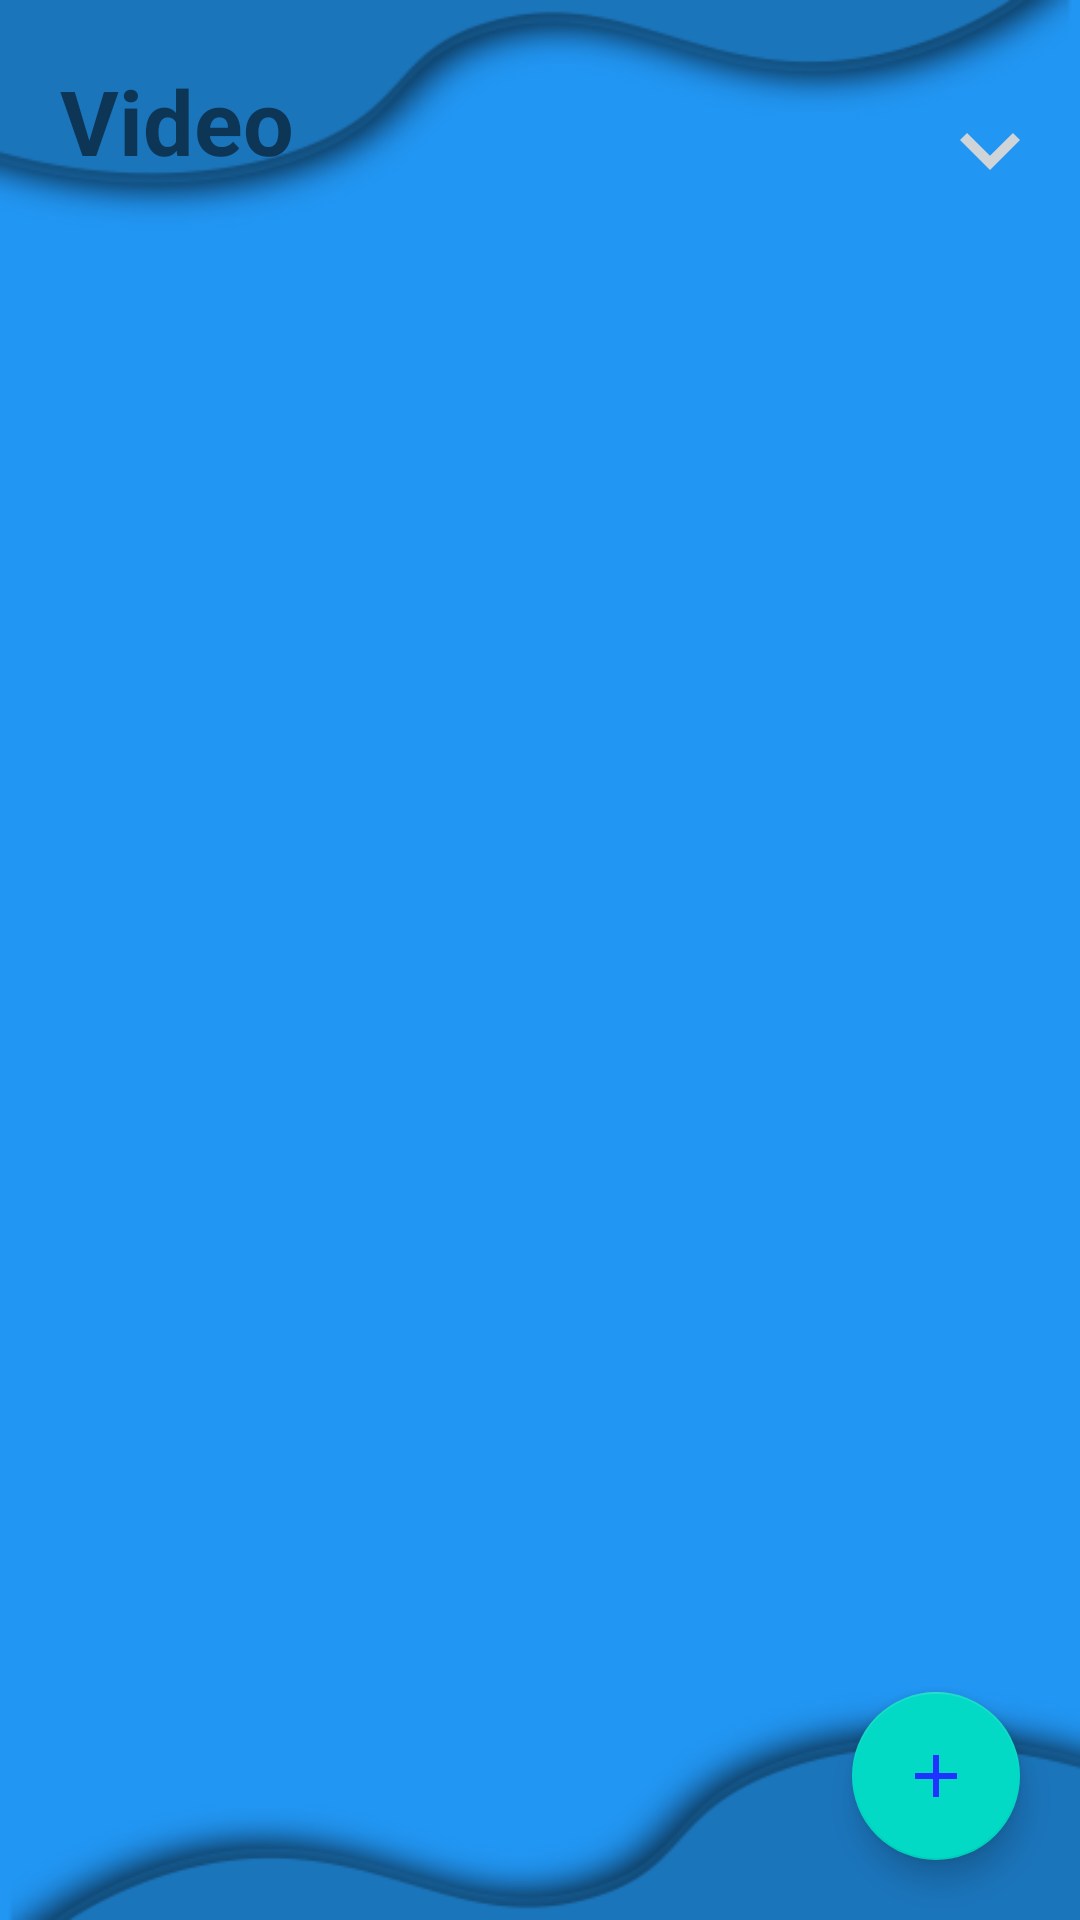

Named icons in this screenshot (1080x1920) and their centers, (x,y):
plus: (936,1776)
